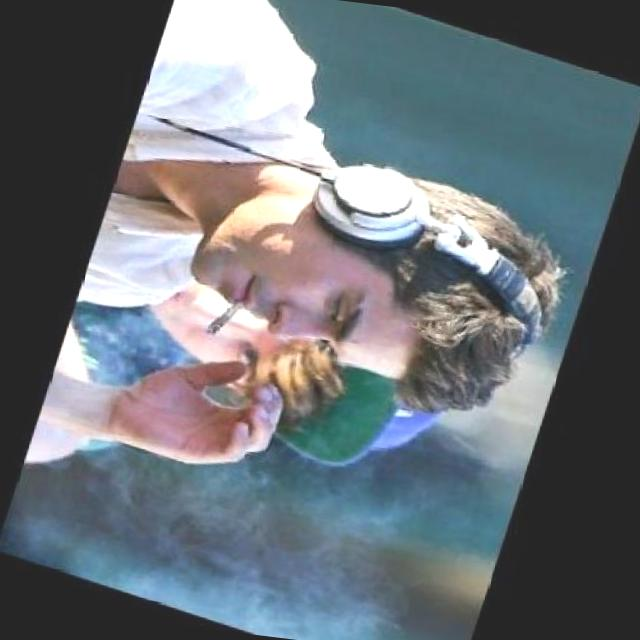smoke: (200, 289, 247, 344)
